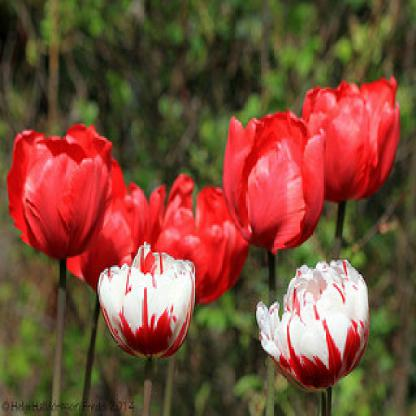ROSE-MAWAR: (8, 66, 403, 410)
